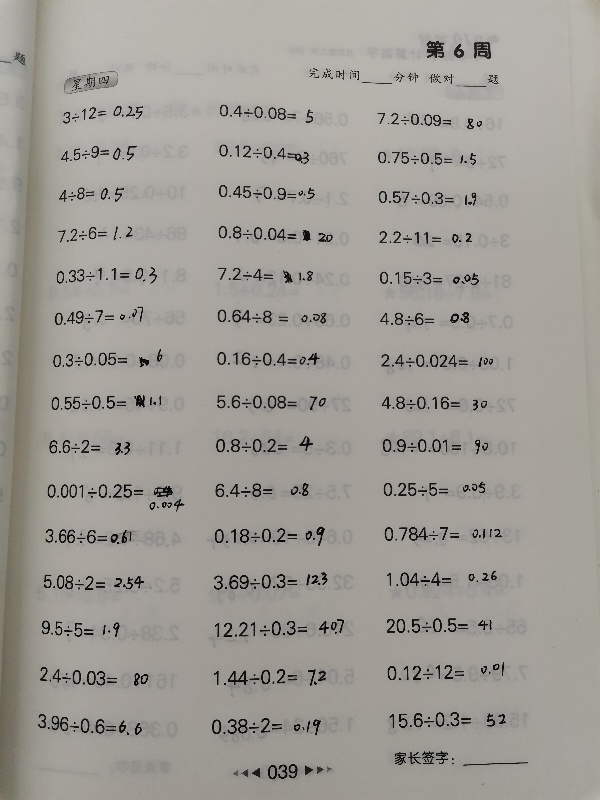equation: (43, 477, 188, 510), (367, 100, 494, 134), (379, 562, 507, 592), (36, 665, 160, 692), (44, 429, 144, 462), (378, 472, 495, 500), (385, 708, 514, 733), (383, 661, 512, 686), (211, 523, 329, 550), (369, 304, 482, 332), (210, 616, 347, 639), (51, 138, 151, 169), (48, 220, 151, 249), (210, 664, 329, 689), (48, 347, 166, 372), (207, 713, 324, 738), (210, 569, 331, 593), (210, 478, 317, 505), (381, 523, 506, 545), (34, 713, 146, 737), (377, 350, 497, 372), (378, 434, 492, 457), (383, 614, 496, 637), (47, 391, 165, 413), (52, 102, 155, 127), (53, 263, 160, 287), (214, 223, 336, 244), (213, 391, 329, 413), (211, 433, 316, 457), (377, 392, 491, 414), (213, 306, 329, 327), (214, 348, 324, 370), (39, 571, 147, 593), (375, 267, 482, 289), (50, 304, 147, 327), (374, 187, 480, 208), (52, 183, 140, 208), (213, 265, 317, 286), (214, 182, 318, 203), (214, 142, 313, 164), (215, 102, 317, 123), (373, 148, 480, 168), (376, 227, 476, 248), (41, 525, 135, 547), (37, 617, 123, 641)
